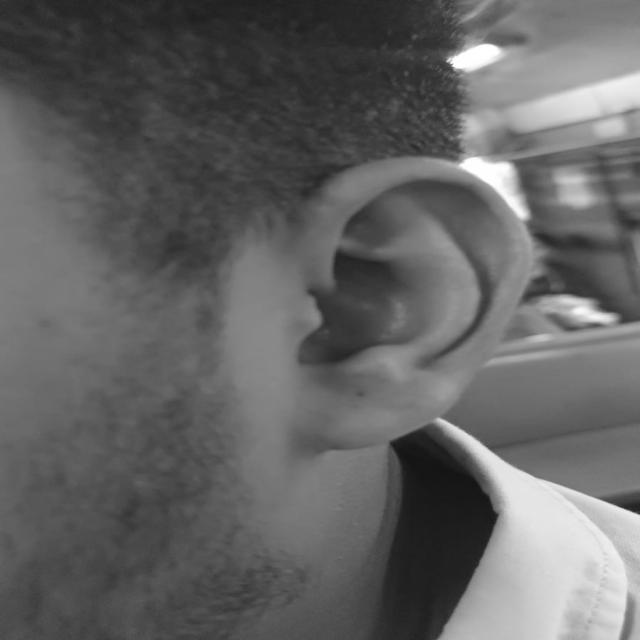ear: (300, 158, 530, 448)
